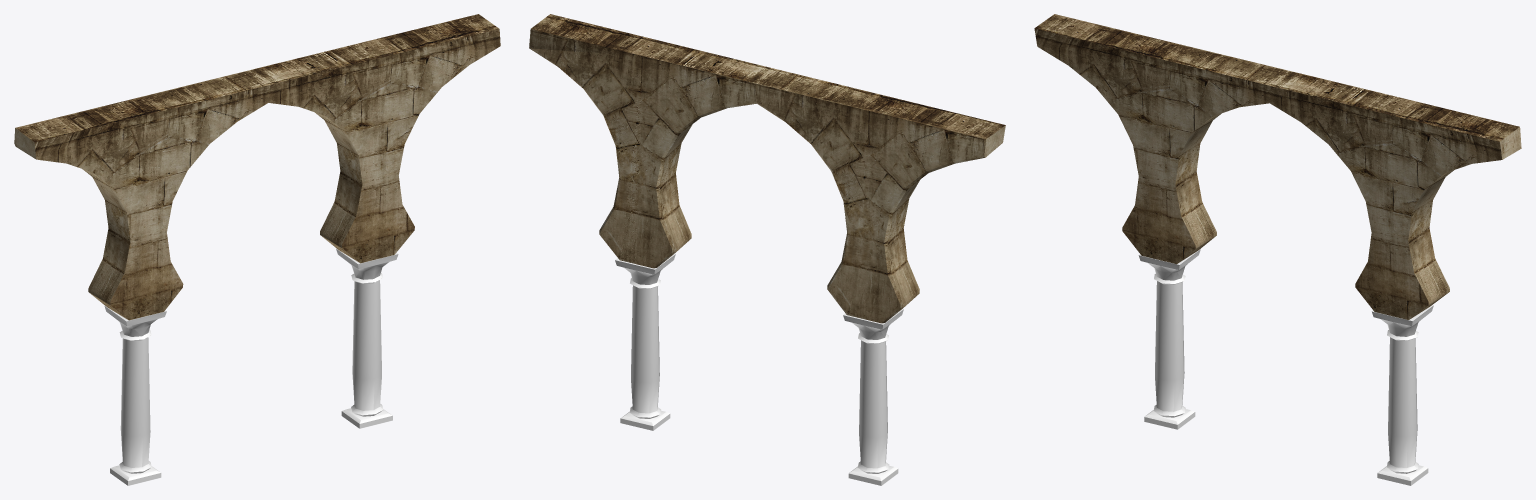
The model's file is desert_ruins_h6_LOD0.fbx.
The picture shows the model from 3 angles, left to right: view 1: azimuth 30°, elevation 25°; view 2: azimuth 150°, elevation 25°; view 3: azimuth 330°, elevation 25°; orthographic projection. The views are drawn at different scales.
Visible parts, largest first — view 1: Mesh; view 2: Mesh; view 3: Mesh.
Part boxes in pixels (left/top/right/bottom): Mesh: left=14, top=14, right=500, bottom=485; Mesh: left=529, top=14, right=1005, bottom=485; Mesh: left=1034, top=14, right=1521, bottom=485.
Bounding box in the file's own units: 173 × 132 × 18.38.
